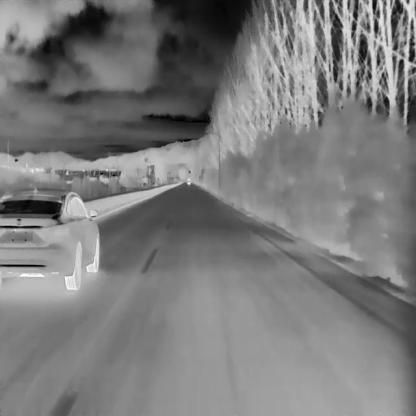car: (0, 185, 99, 289)
